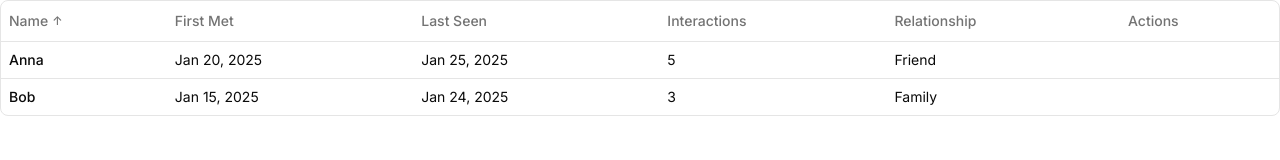
Test: Memory Table › table interactions › should allow sorting by interaction count
Click the button "Interactions" at (707, 21), box [667,11,746,31]
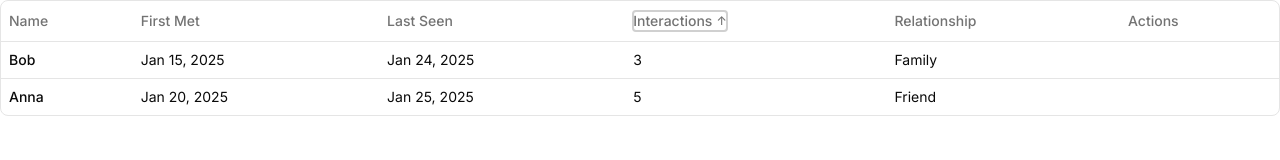
Now the button with aria-label "Sorted by interactionCount ascending" is shown, box [633,11,727,31]
